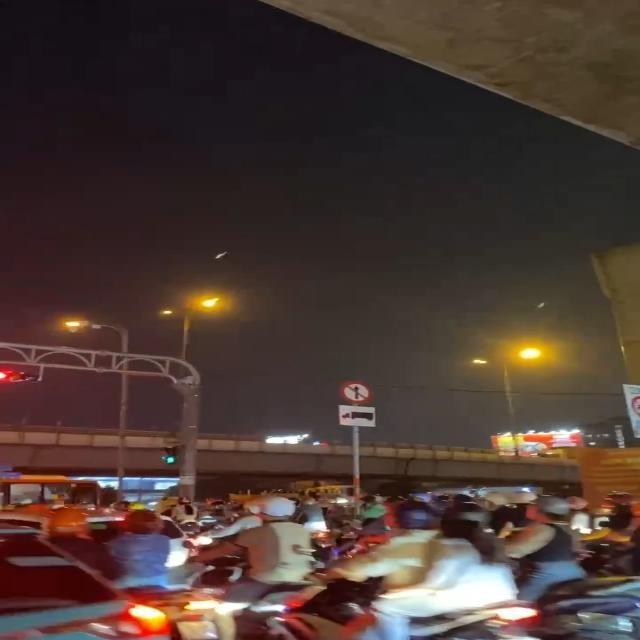136-cam-di-thang: (340, 380, 372, 404)
